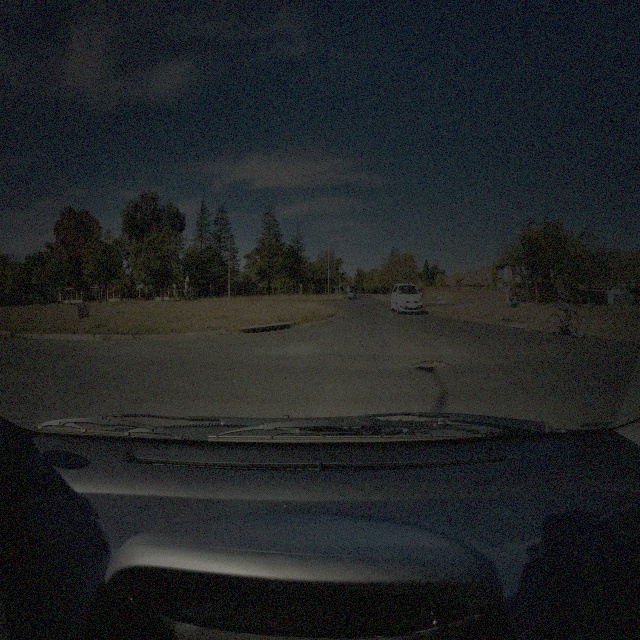pothole: (412, 357, 448, 371)
